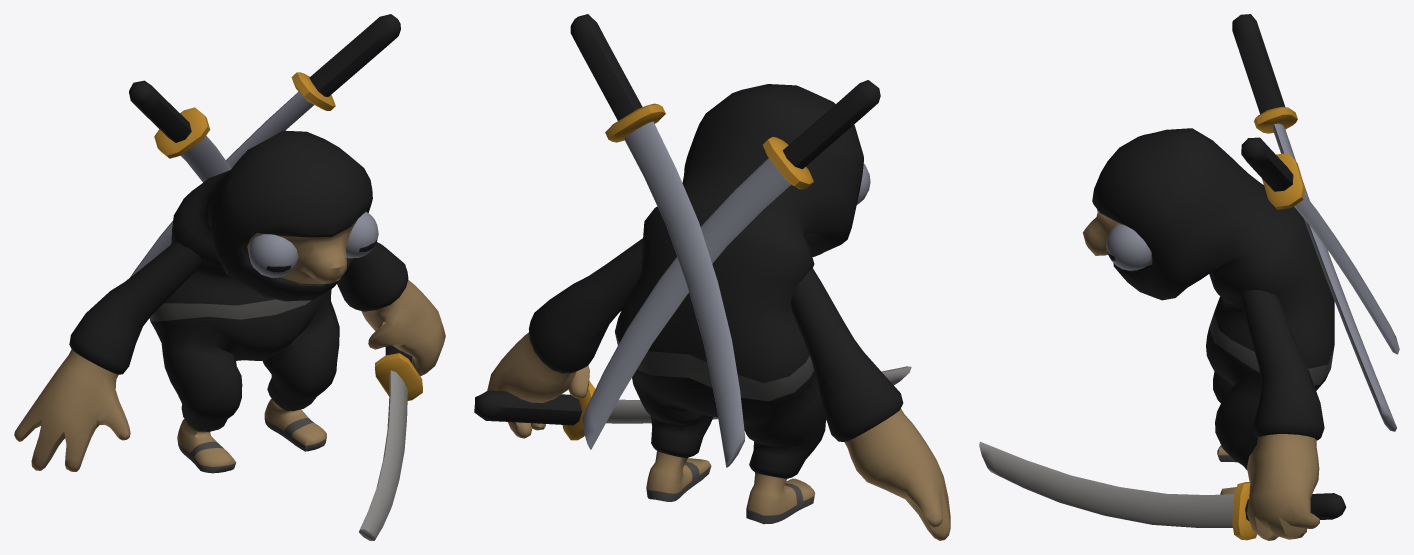
Rendered from q_ninja_2.glb.
3 views of the same model, side by side, from view 1: azimuth 30°, elevation 25°; view 2: azimuth 150°, elevation 25°; view 3: azimuth 270°, elevation 25° (orthographic). The views are drawn at different scales.
Parts seen in each view (by area): view 1: Ninja_b; view 2: Ninja_b; view 3: Ninja_b.
Part boxes in pixels (x1,y1,x2,y2): Ninja_b: (14, 14, 445, 540); Ninja_b: (474, 14, 950, 540); Ninja_b: (979, 14, 1399, 540).
Bounding box in the file's own units: 1.08 × 1 × 0.928.
